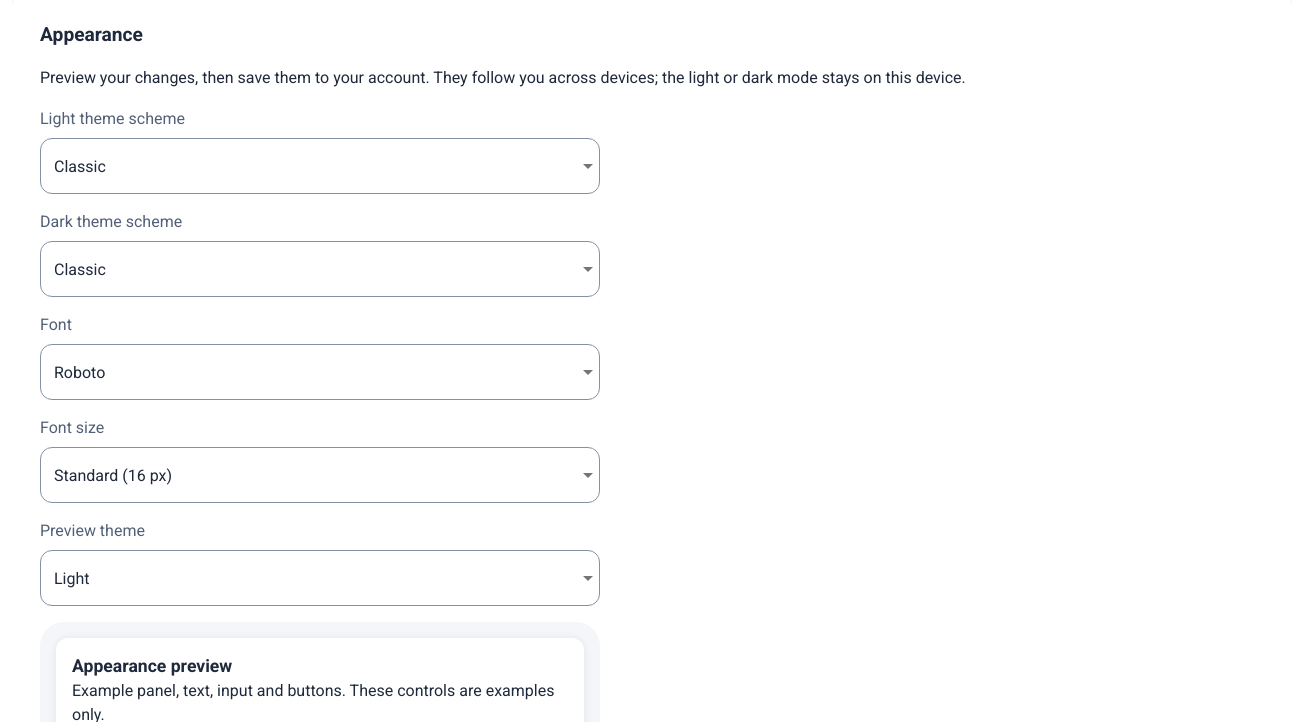
Scenario: reports failed saving without claiming success or discarding the selected draft
Select "Warm" in the dropdown labelled "Dark theme scheme": point(320, 269) top-left (40, 241), bottom-right (600, 297)
(page scrolled)
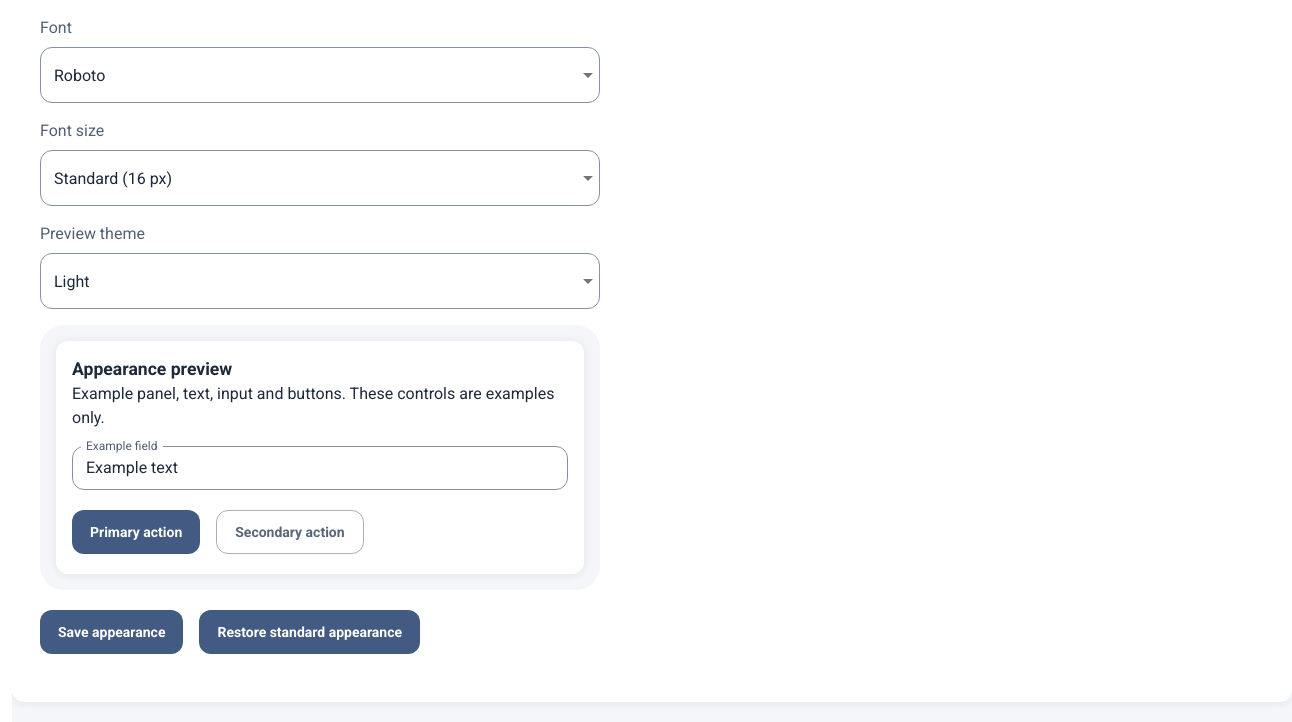
Click the button "Save appearance": point(112, 632) top-left (40, 610), bottom-right (184, 654)
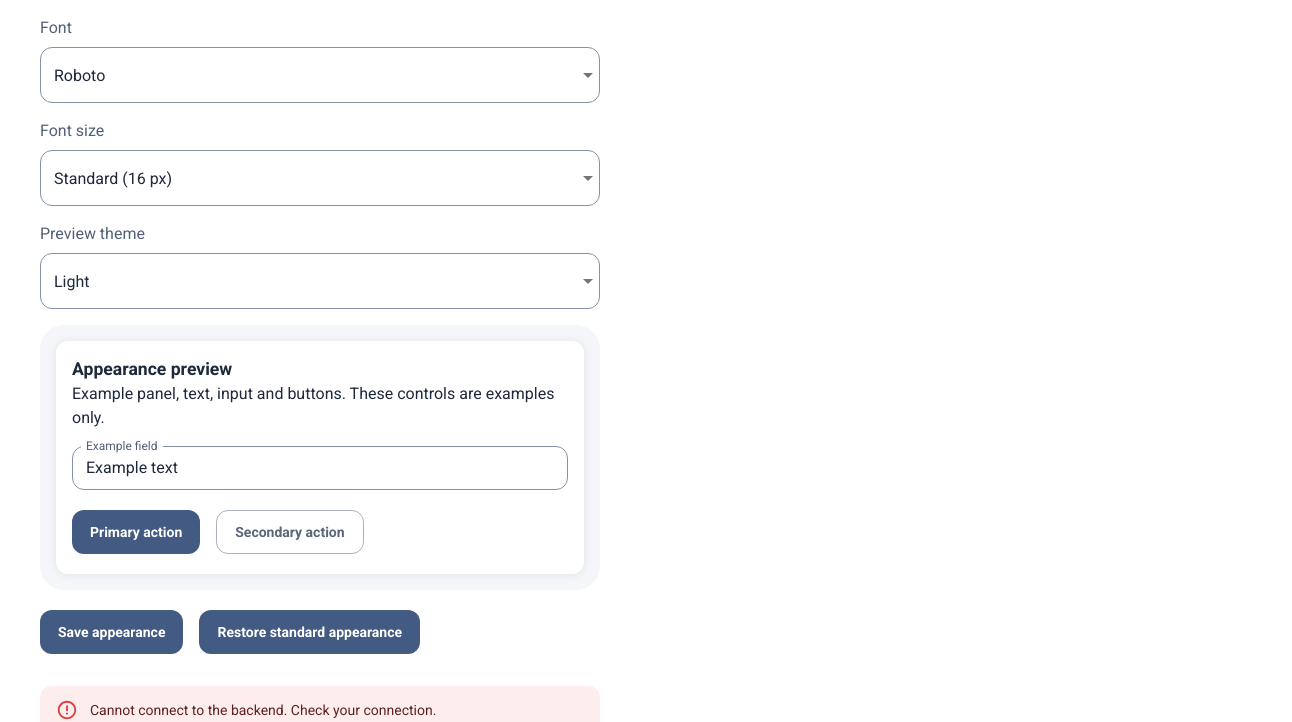
Expected: the message shows "Cannot connect", top-left (90, 702), bottom-right (436, 718)
